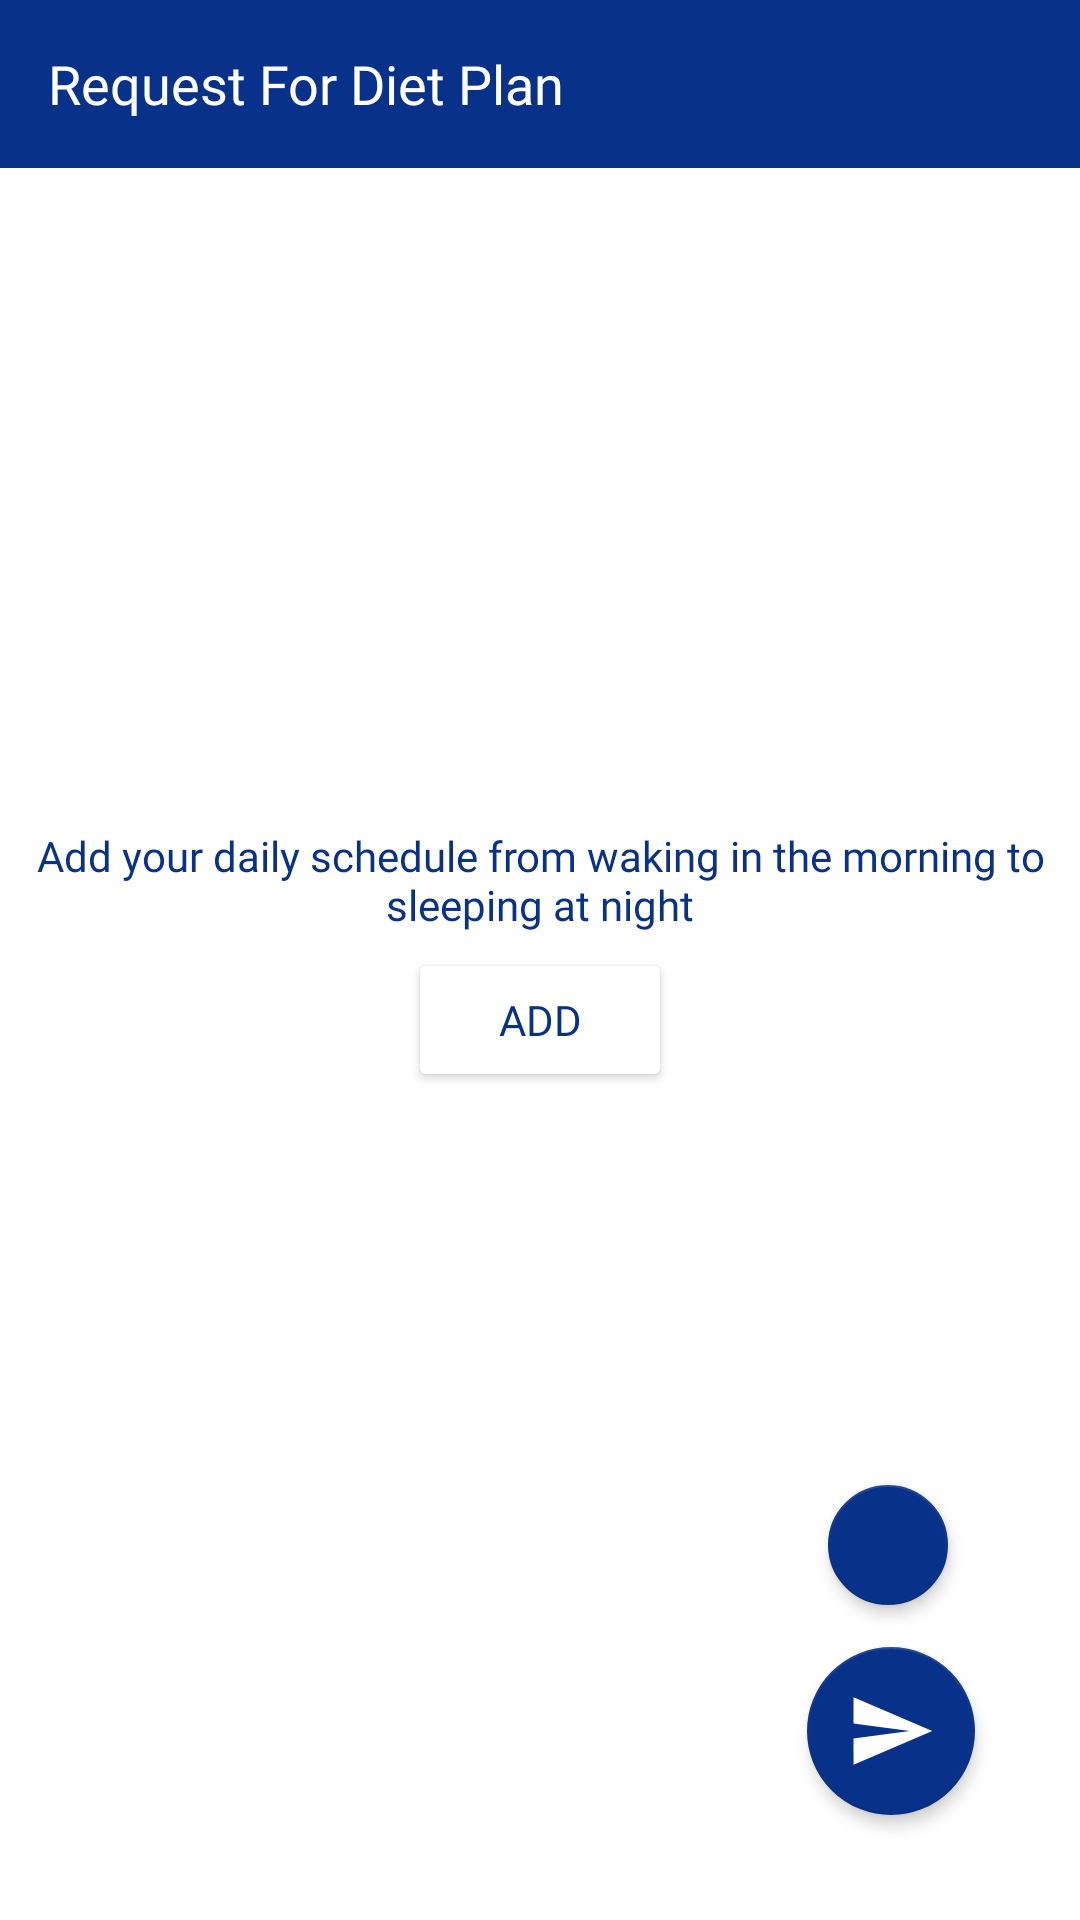

Where to tap for icons on this 1080 x 1920 app screen, as (x,y):
send: (891,1731)
